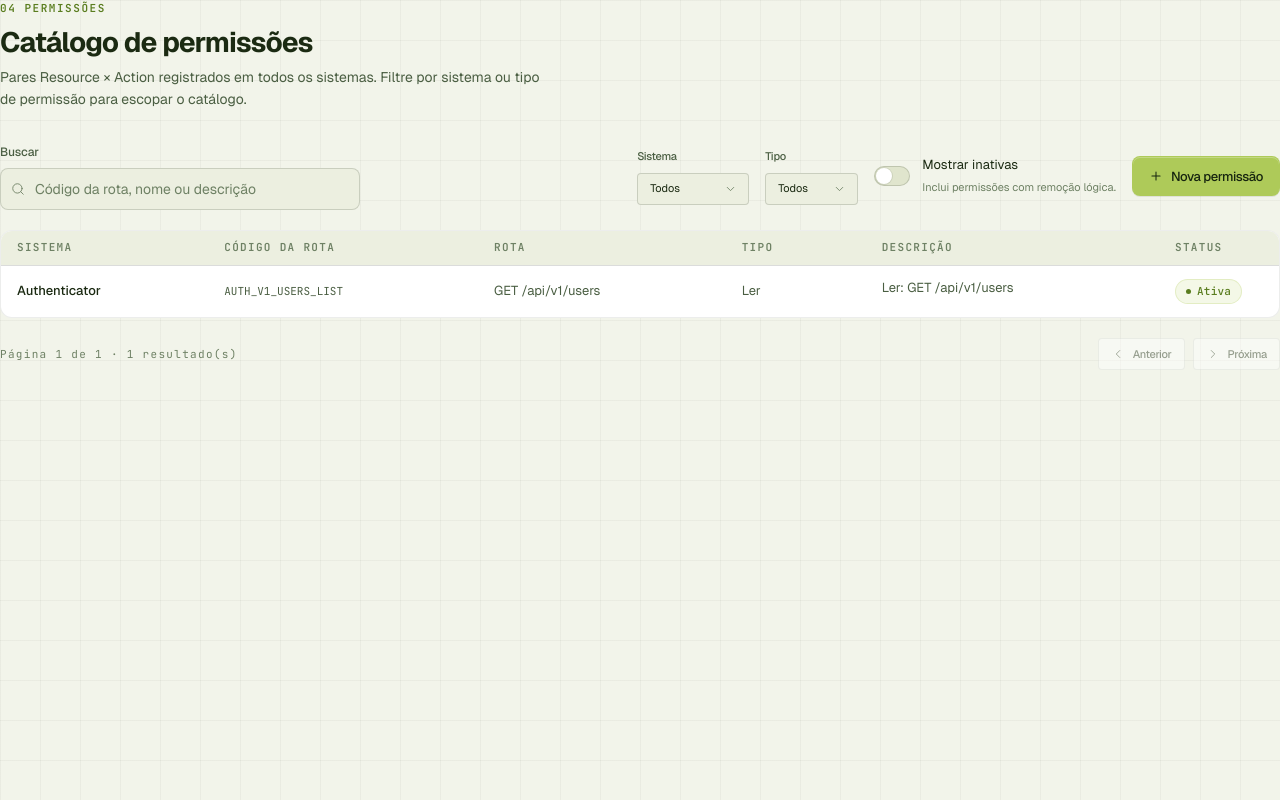
Test: PermissionsListShellPage — Nova permissão (Issue #201) › modal — validação e submissão › submeter sem preencher campos obrigatórios mantém POST ausente
This screenshot has width=1280, height=800.
Click the button with test id "permissions-create-open".
click(1206, 176)  # box [1132,156,1279,196]
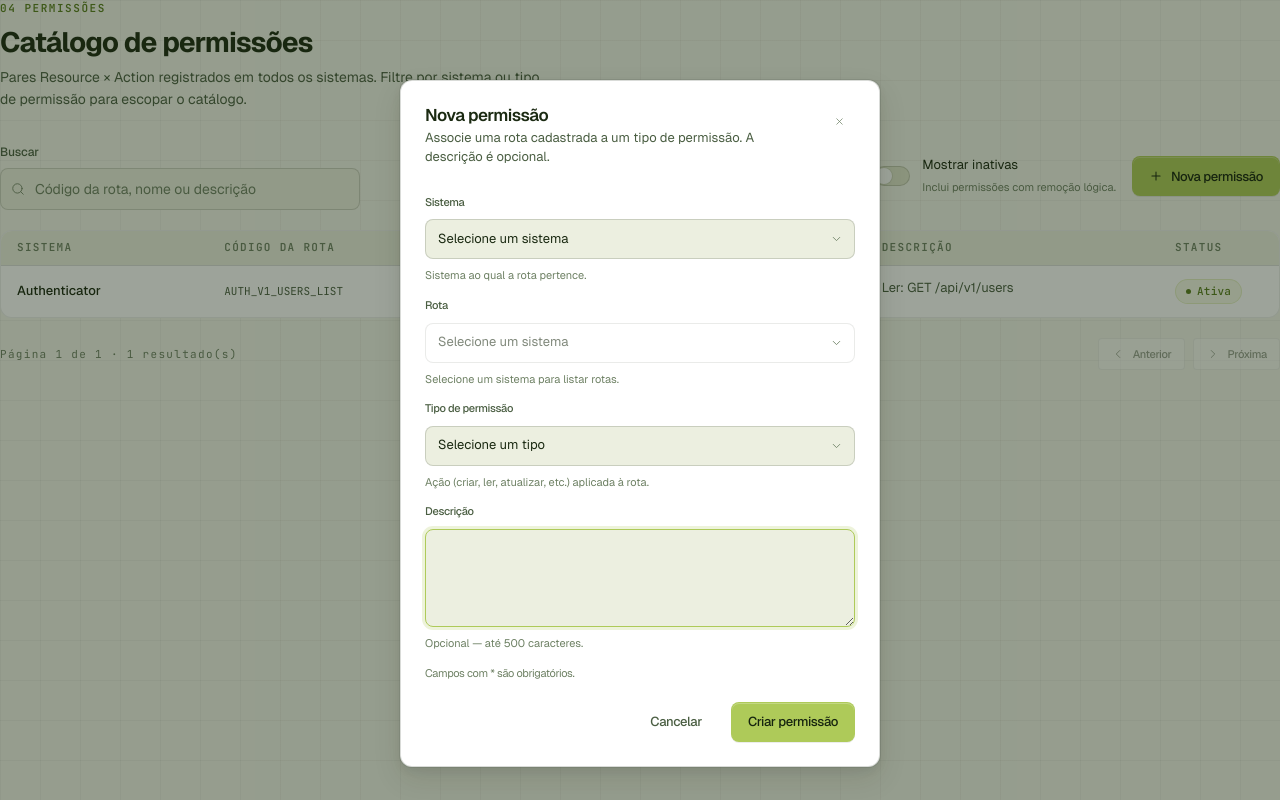
Expected: the dialog is shown, [400,80,880,767]
Expected: the dropdown with test id "new-permission-type-id" is enabled, [425,426,855,466]
Submit the form with test id "new-permission-form", box [425,194,855,742]
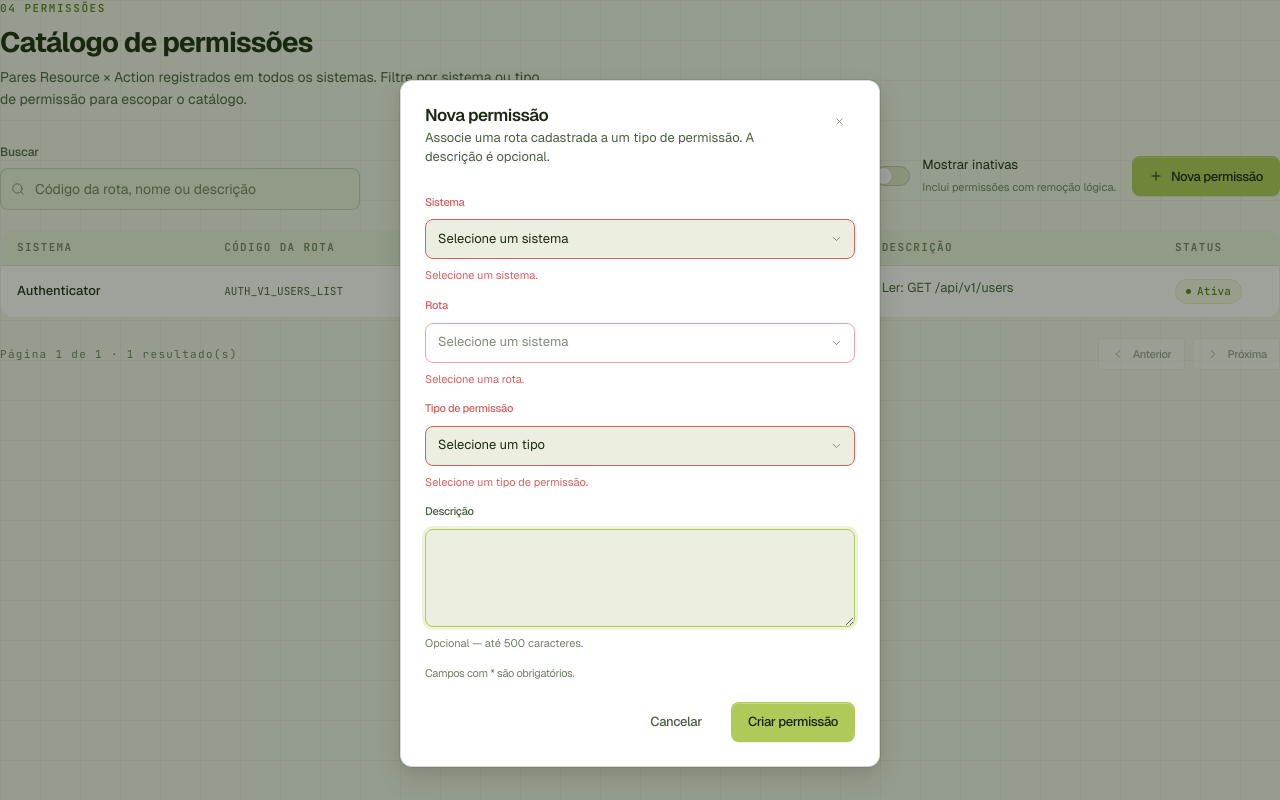
Expected: the text "Selecione um sistema." is shown, [425,268,538,282]
